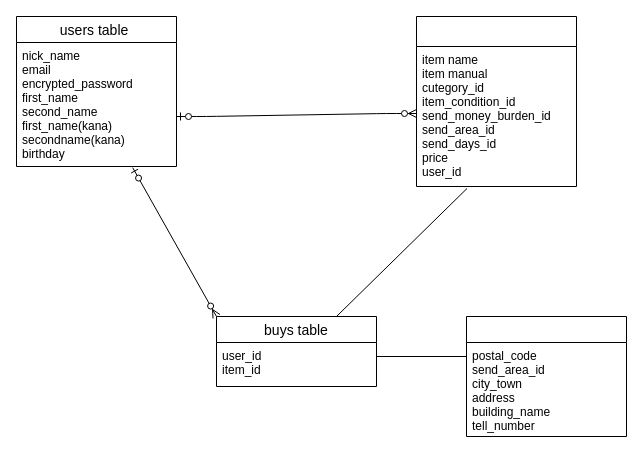
Image size: 643x453. Some labels were removed from this diagram. Each missing label, with the box of its shape:
items table: (416, 16, 576, 186)
send table: (466, 316, 626, 436)
